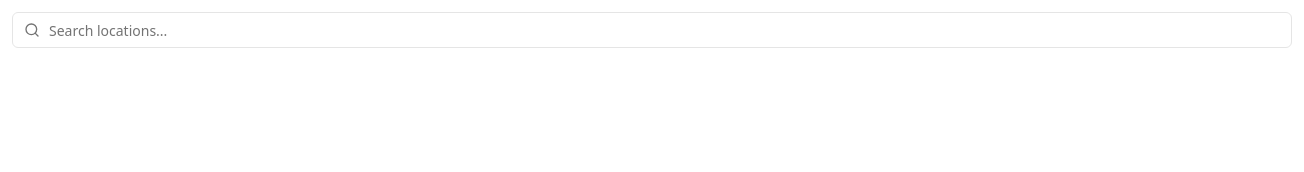
Test: PlaceAutocomplete › should intercept test winery selection and bypass fetchPlaceDetails
The image size is (1304, 172).
Later steps or results of the test are not shown.
Type "Silent" into the dropdown with test id "place-autocomplete-input".
click(652, 30); type("Silent")  # box [12,12,1292,48]
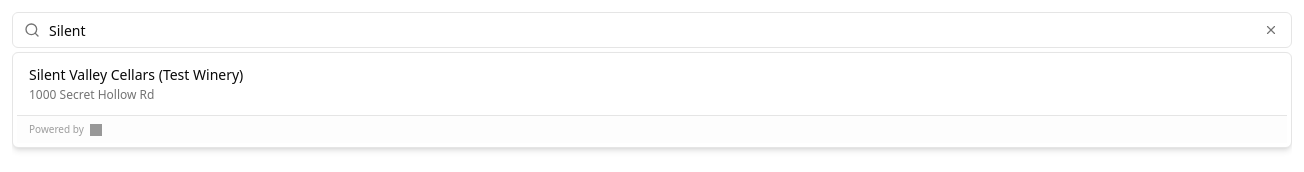
Result: the list with test id "place-autocomplete-results" is shown at [12,52,1292,148]
